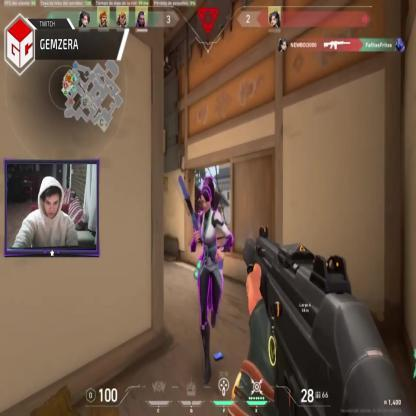enemy: (191, 175, 234, 386)
enemy_head: (200, 185, 212, 212)
